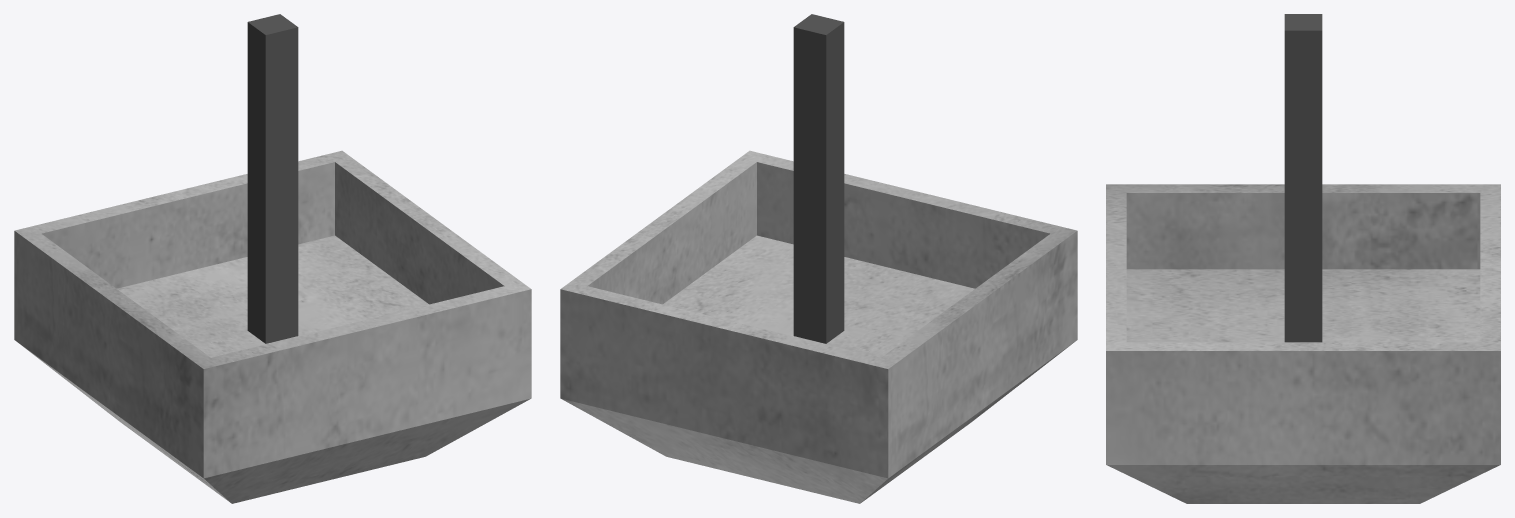
File: roof_lamp.fbx
3 views of the same model, side by side, from view 1: azimuth 30°, elevation 25°; view 2: azimuth 150°, elevation 25°; view 3: azimuth 270°, elevation 25° (orthographic). The views are drawn at different scales.
Parts seen in each view (by area): view 1: Cube.034; view 2: Cube.034; view 3: Cube.034.
Part boxes in pixels (left/top/right/bottom): Cube.034: left=14, top=14, right=531, bottom=503; Cube.034: left=560, top=14, right=1077, bottom=503; Cube.034: left=1106, top=14, right=1500, bottom=503.
Size of the model in its own units: 146 by 186 by 146.
